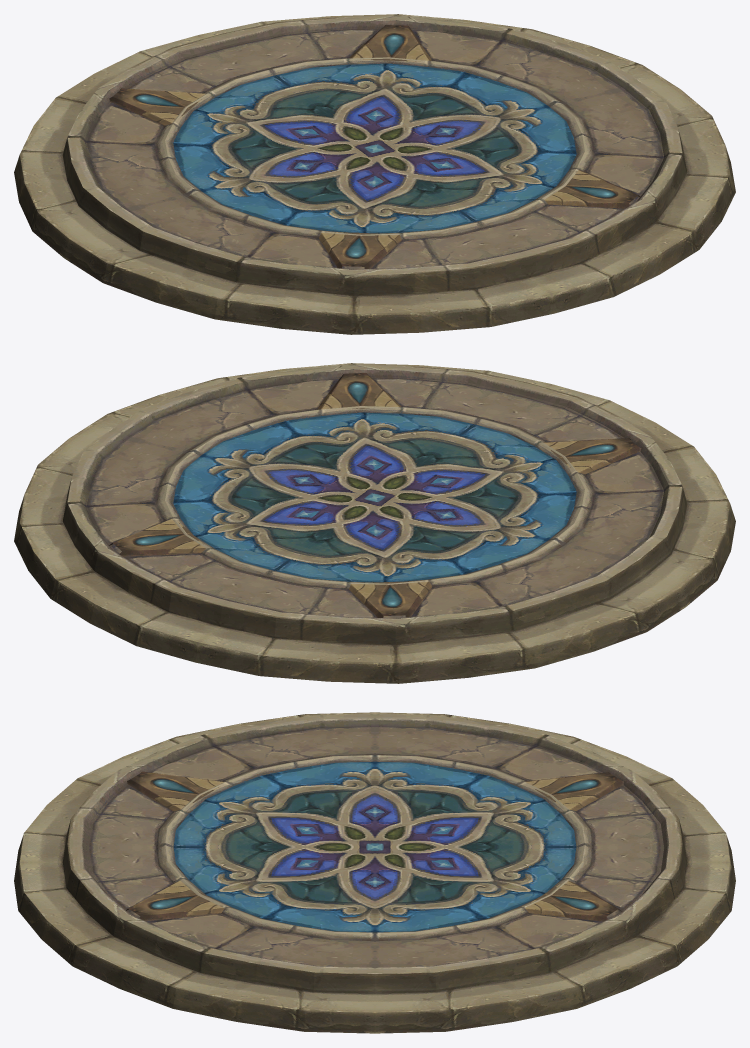
File: city_construct_halidom02.FBX
The picture shows the model from 3 angles, top to bottom: view 1: azimuth 30°, elevation 25°; view 2: azimuth 150°, elevation 25°; view 3: azimuth 270°, elevation 25°; orthographic projection.
Visible parts, largest first — view 1: city_construct_halidom02; view 2: city_construct_halidom02; view 3: city_construct_halidom02.
Part boxes in pixels (bbox=[...]): city_construct_halidom02: bbox=[14, 14, 735, 334]; city_construct_halidom02: bbox=[14, 363, 735, 683]; city_construct_halidom02: bbox=[14, 712, 735, 1033].
Bounding box in the file's own units: 7.96 × 0.4558 × 7.96.
